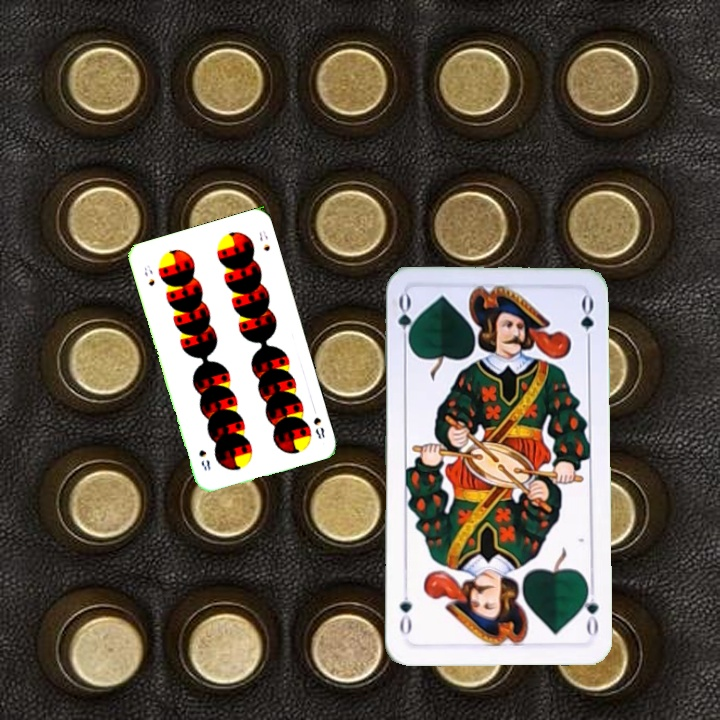GO: (577, 580, 601, 639), (394, 291, 415, 350)
S8: (309, 413, 327, 442), (140, 261, 157, 288)
